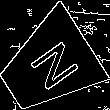N_SW: (18, 35, 78, 97)
